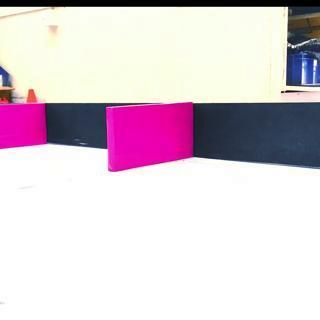xparking: (106, 106, 192, 168), (1, 102, 44, 150)
